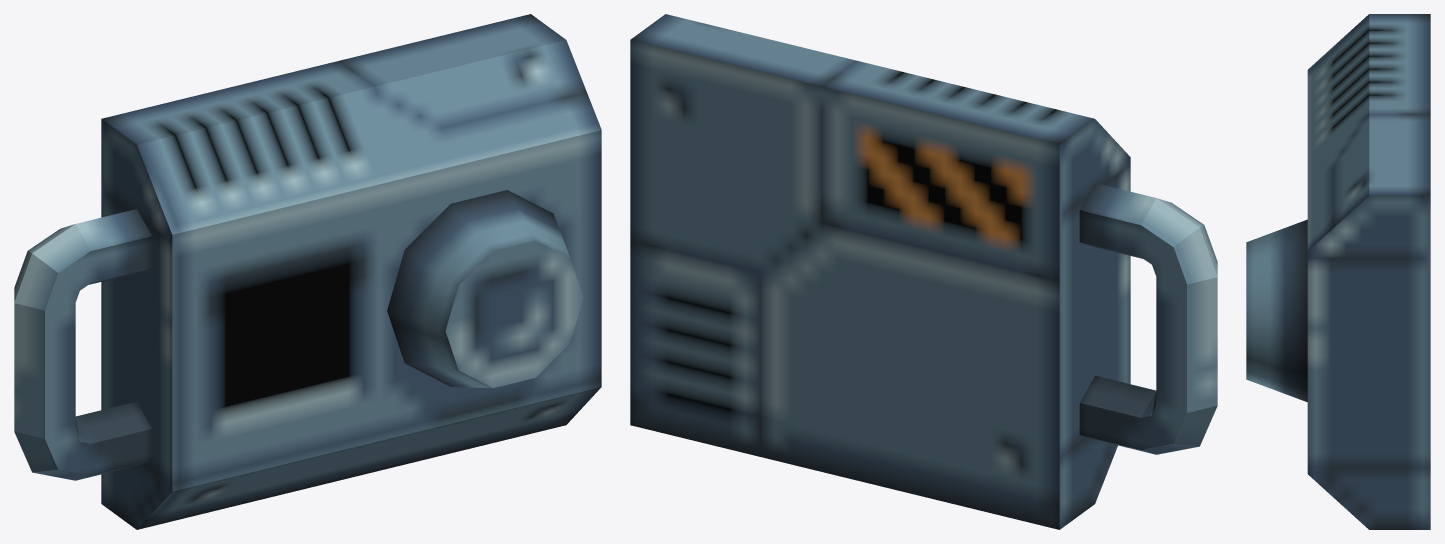
Rendered from InteractiveButton_Metal.fbx.
The picture shows the model from 3 angles, left to right: view 1: azimuth 30°, elevation 25°; view 2: azimuth 150°, elevation 25°; view 3: azimuth 270°, elevation 25°; orthographic projection. The views are drawn at different scales.
Parts seen in each view (by area): view 1: Backplate, Button; view 2: Backplate; view 3: Backplate, Button.
Boxes of the visible parts, <box> form: Backplate: <box>14,14,601,529</box>; Button: <box>387,190,583,388</box>; Backplate: <box>630,14,1217,529</box>; Backplate: <box>1307,14,1430,529</box>; Button: <box>1246,219,1307,402</box>.
Bounding box in the file's own units: 9 × 6 × 3.
